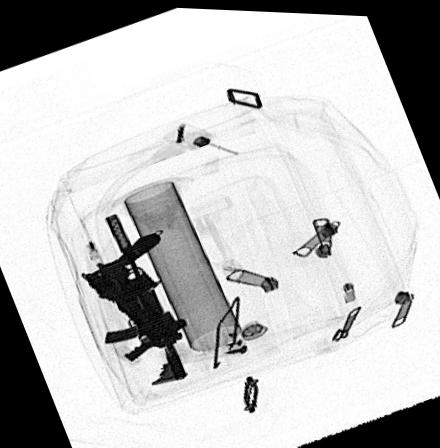Gun: (98, 209, 189, 386), (76, 231, 178, 347)
